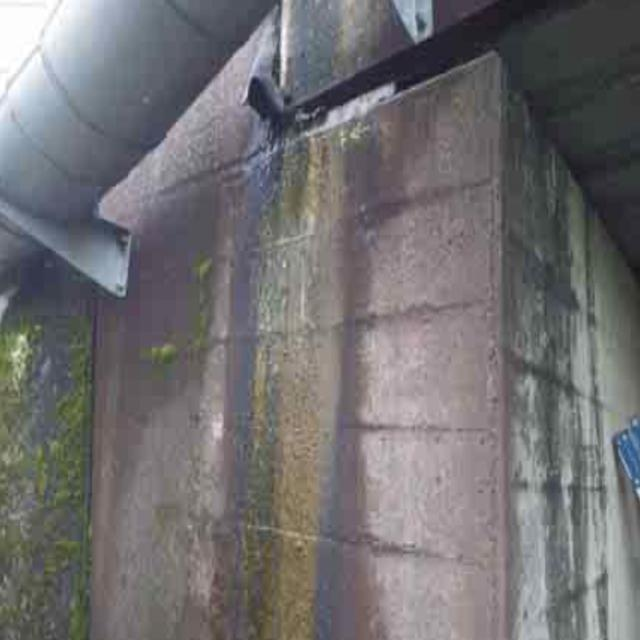leakage: (217, 117, 387, 640)
